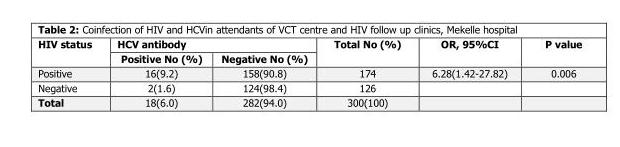table: (37, 37, 581, 107)
table column: (415, 37, 525, 107), (211, 37, 320, 107), (103, 37, 211, 107), (320, 37, 415, 107), (37, 37, 103, 107), (525, 37, 581, 107)
table column header: (37, 37, 581, 65)
table row: (37, 50, 581, 65), (37, 79, 581, 94), (37, 65, 581, 79), (37, 37, 581, 50), (37, 94, 581, 107)
table spanning cell: (415, 37, 525, 65), (103, 37, 320, 50), (320, 37, 415, 65), (37, 37, 103, 65), (525, 37, 581, 65)
